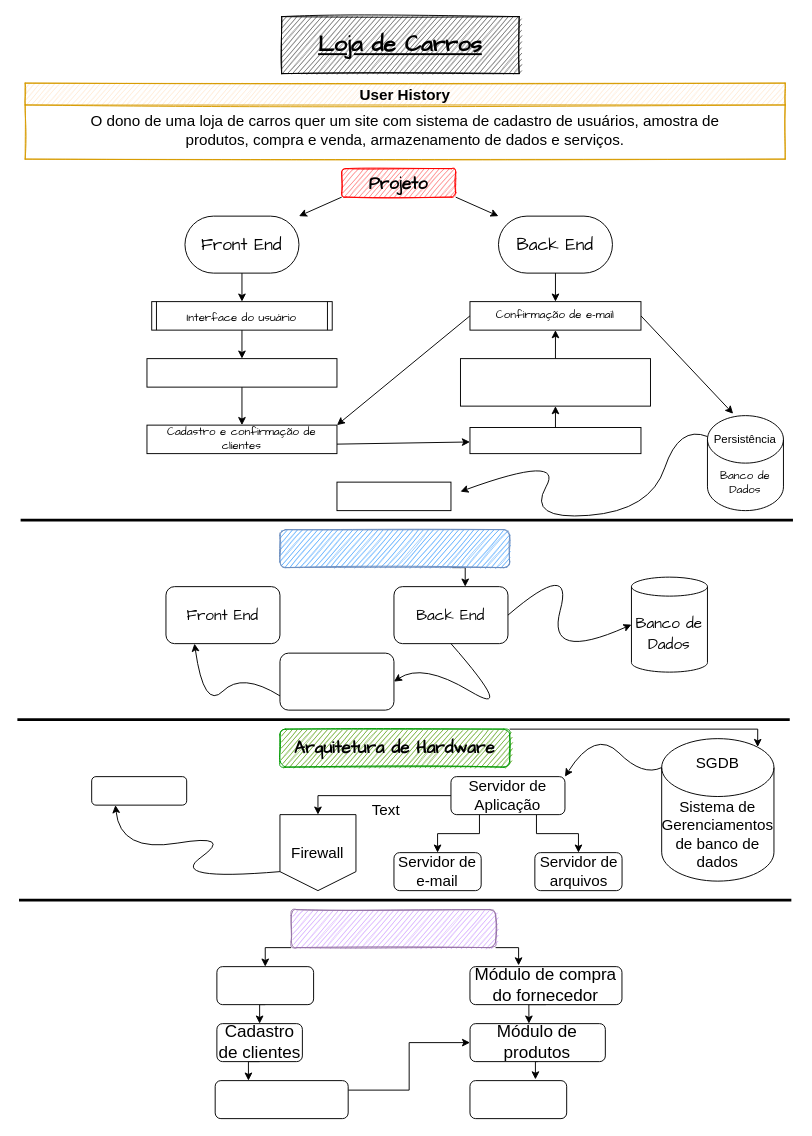
Some shapes in this 812 by 1136 pixel diagram are drawn without their labels. Here are the shapes that lost their labels. From the top down, the centre of each, then its label:
At point 241,372: "Mostruário de produtos".
At point 555,382: "Confirmação automática de dados e Regra de negócio".
At point 555,440: "Formulários de cadastramento de clientes recebidos".
At point 393,496: "Venda ao cliente".
At point 394,548: "Arquitetura de Software".
At point 336,681: "Cyber Segurança".
At point 139,790: "Servidor Web".
At point 393,928: "Modelo do sistema".
At point 265,985: "Módulo de clientes".
At point 281,1099: "Módulo de venda ao cliente".
At point 518,1099: "Módulo de entregas".
